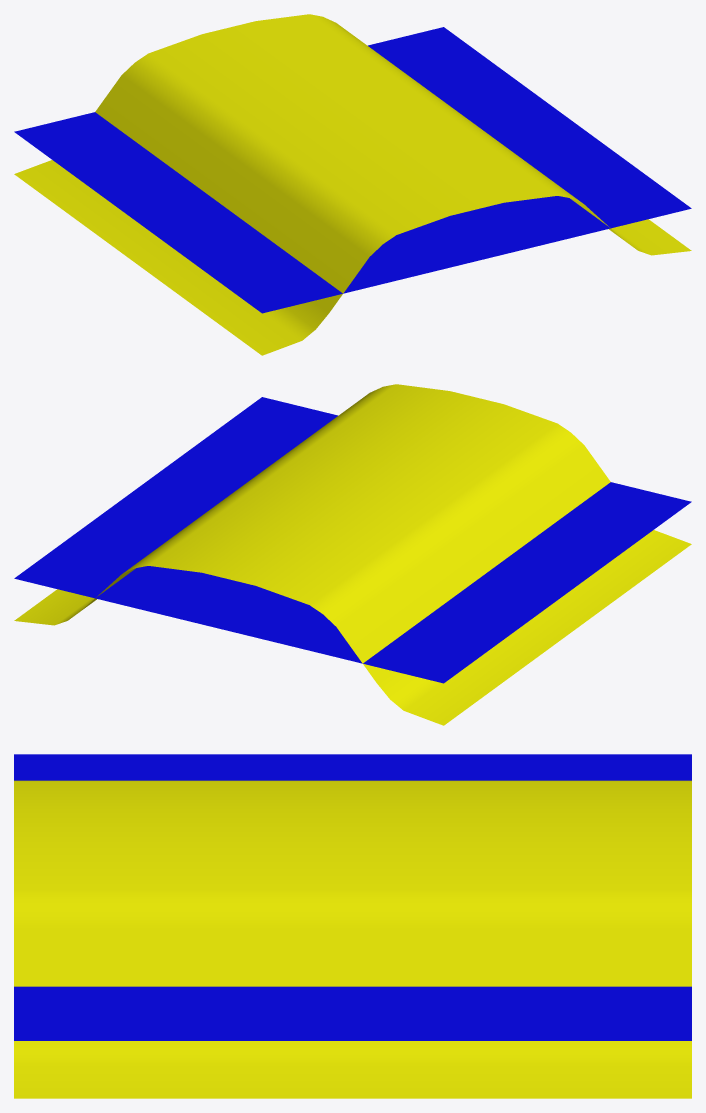
The model's file is Swamp_Lane_I.fbx.
3 views of the same model, one above another, from view 1: azimuth 30°, elevation 25°; view 2: azimuth 150°, elevation 25°; view 3: azimuth 270°, elevation 25° (orthographic). The views are drawn at different scales.
Parts seen in each view (by area): view 1: path_low, water_low; view 2: path_low, water_low; view 3: path_low, water_low.
Boxes of the visible parts, x1=… form: path_low: x1=14, y1=14, x2=691, y2=355; water_low: x1=14, y1=27, x2=691, y2=313; path_low: x1=14, y1=384, x2=691, y2=725; water_low: x1=14, y1=397, x2=691, y2=683; path_low: x1=14, y1=780, x2=691, y2=1098; water_low: x1=14, y1=754, x2=691, y2=1040.
Bounding box in the file's own units: 2 × 0.4182 × 2.
